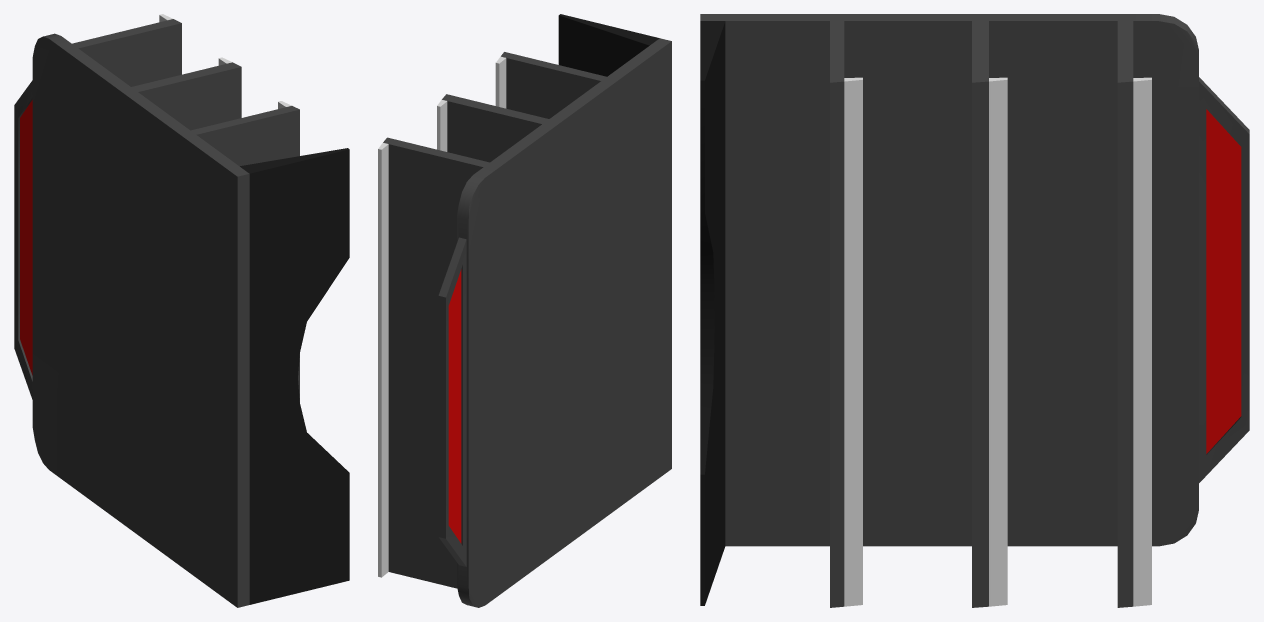
The model's file is Shelf_3.fbx.
3 renders of one model, left to right at view 1: azimuth 30°, elevation 25°; view 2: azimuth 150°, elevation 25°; view 3: azimuth 270°, elevation 25°, orthographic. The views are drawn at different scales.
Visible parts, largest first — view 1: Cube.002; view 2: Cube.002; view 3: Cube.002.
Boxes of the visible parts, box(x1,y1,x2,y2) form: Cube.002: box(14, 14, 349, 607); Cube.002: box(378, 14, 671, 607); Cube.002: box(700, 14, 1249, 607).
Bounding box in the file's own units: 0.9782 × 3.48 × 3.3.
